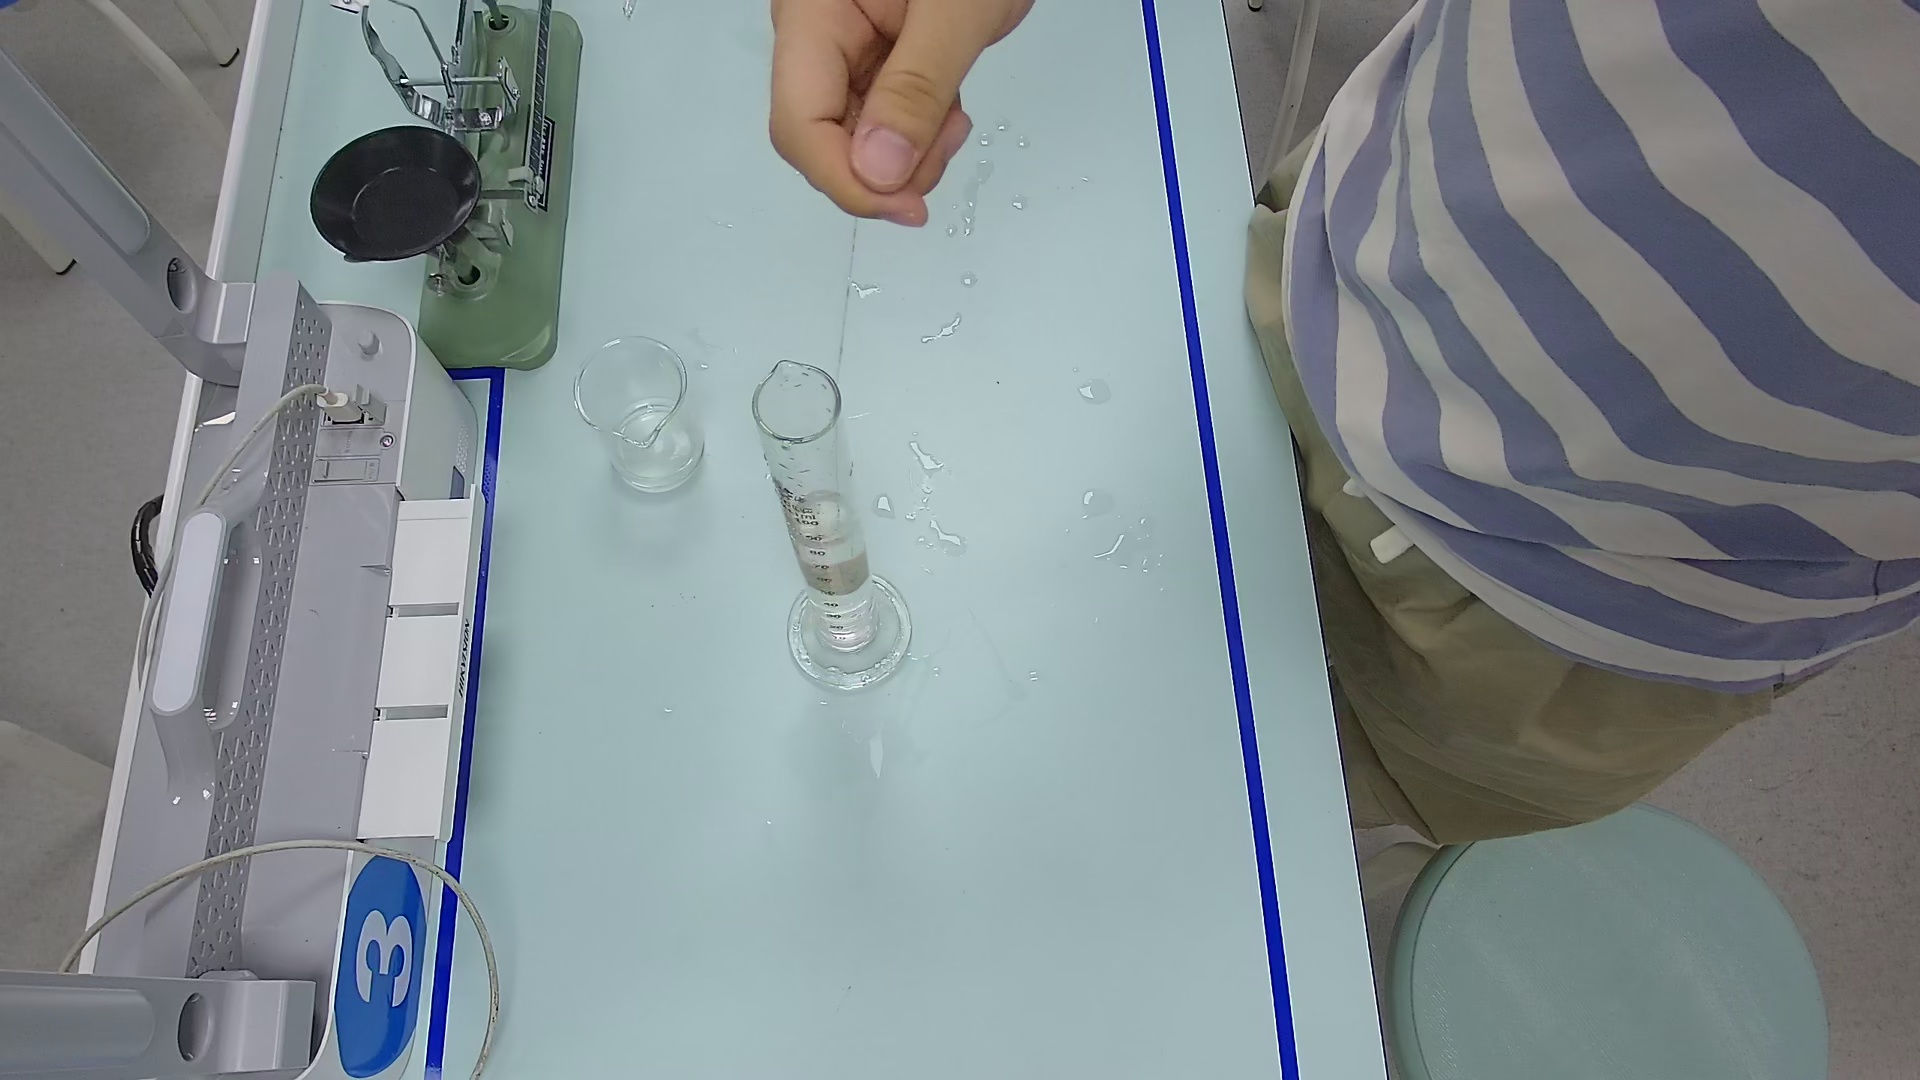ao: (786, 495, 860, 545)
bei: (566, 327, 705, 492)
hand: (735, 1, 1011, 235)
liangdi: (767, 587, 913, 690)
liangtong: (754, 344, 916, 700)
shi: (795, 564, 866, 599)
tuo: (295, 116, 500, 270)
